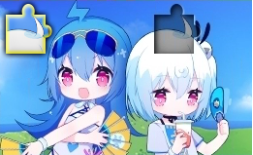gap: (154, 4, 194, 54)
